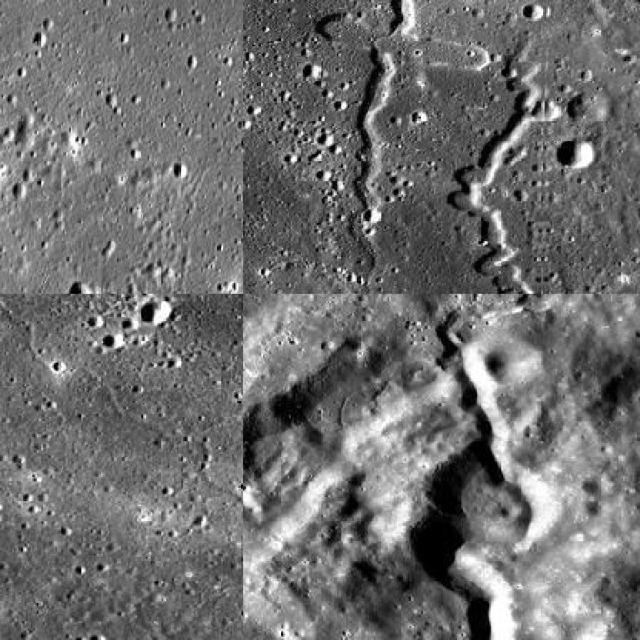rille: (408, 294, 630, 638), (0, 294, 242, 609), (0, 0, 242, 146), (443, 57, 559, 292), (334, 0, 423, 246)
